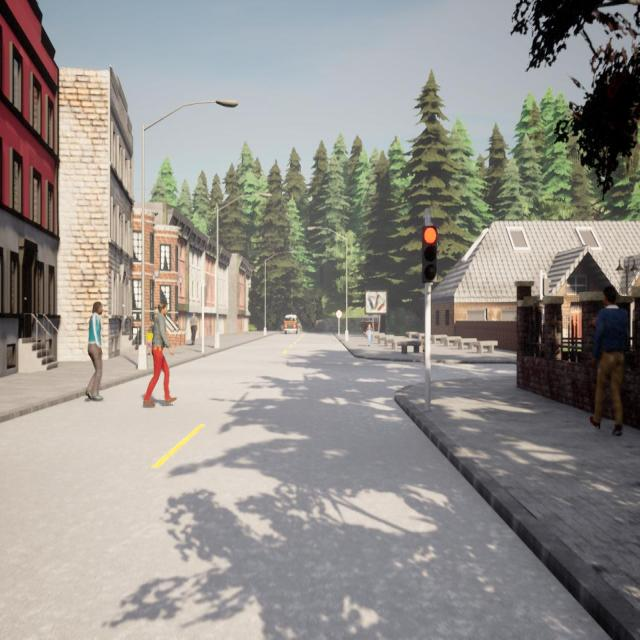Pedestrian: (589, 282, 629, 435), (142, 300, 176, 406), (85, 301, 105, 401), (189, 312, 198, 345), (145, 328, 153, 355), (366, 324, 373, 346)
Traffic_Signs: (336, 310, 342, 318)
Vehicle: (360, 315, 379, 331), (284, 314, 298, 335)
traffic_light: (422, 226, 437, 284), (200, 286, 207, 307)
